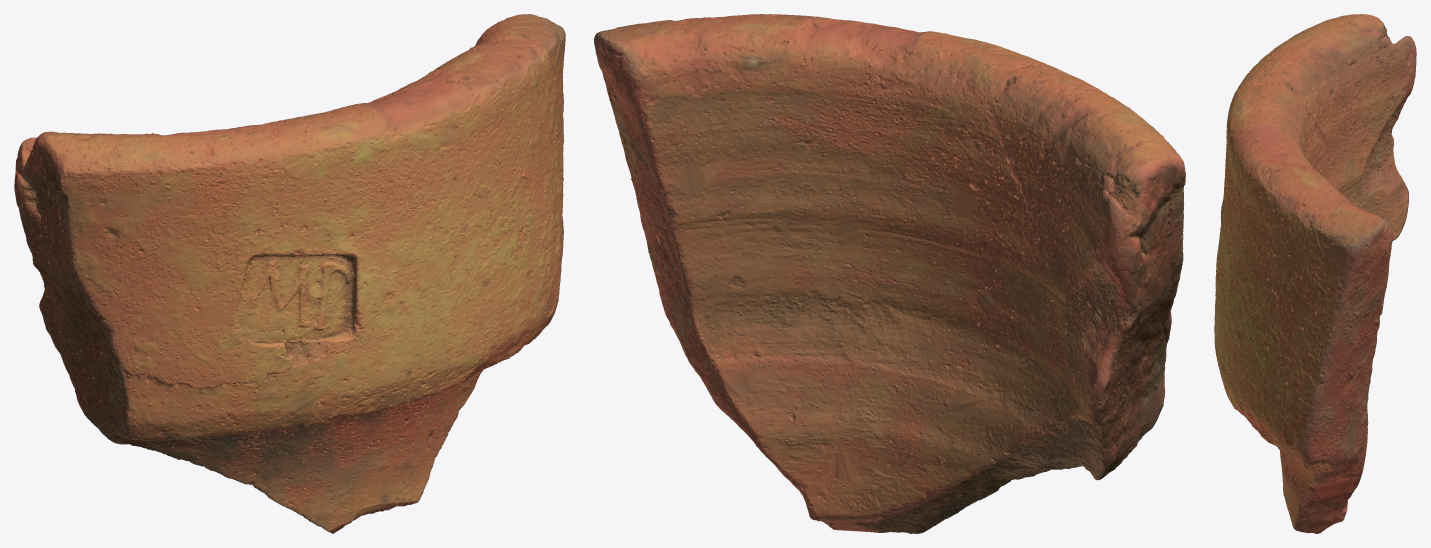
3 views of the same model, side by side, from view 1: azimuth 30°, elevation 25°; view 2: azimuth 150°, elevation 25°; view 3: azimuth 270°, elevation 25° (orthographic). The views are drawn at different scales.
Visible parts, largest first — view 1: 2015_34_1121_32; view 2: 2015_34_1121_32; view 3: 2015_34_1121_32.
Boxes of the visible parts, x1,y1,x2,y2 form: 2015_34_1121_32: (14,14,565,533); 2015_34_1121_32: (594,14,1185,533); 2015_34_1121_32: (1214,14,1416,533).
Bounding box in the file's own units: 0.6061 × 0.4861 × 0.2283.
